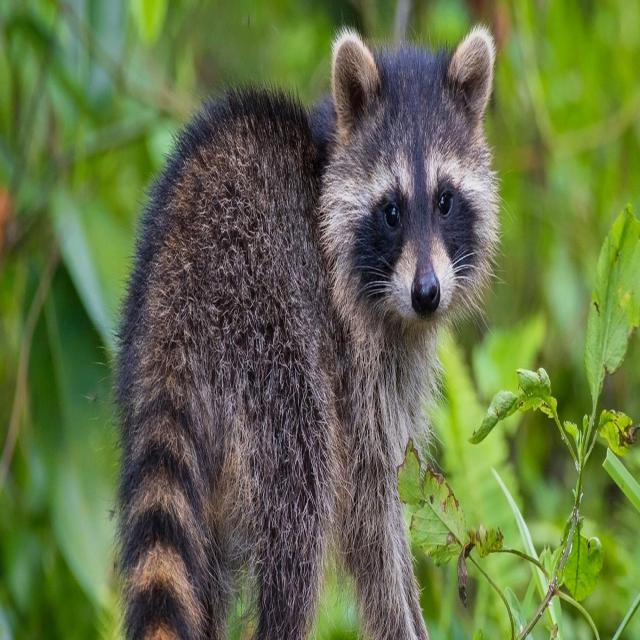raccoon: (116, 26, 499, 639)
